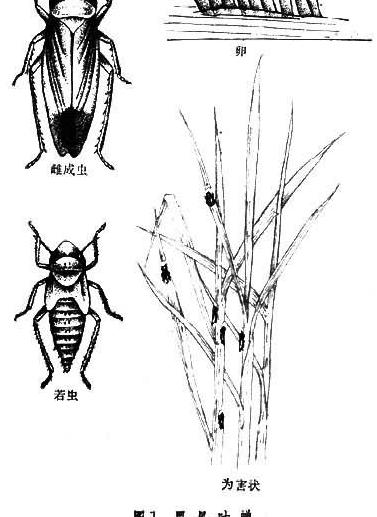Cicadellidae: (8, 1, 134, 170), (17, 221, 124, 391)
